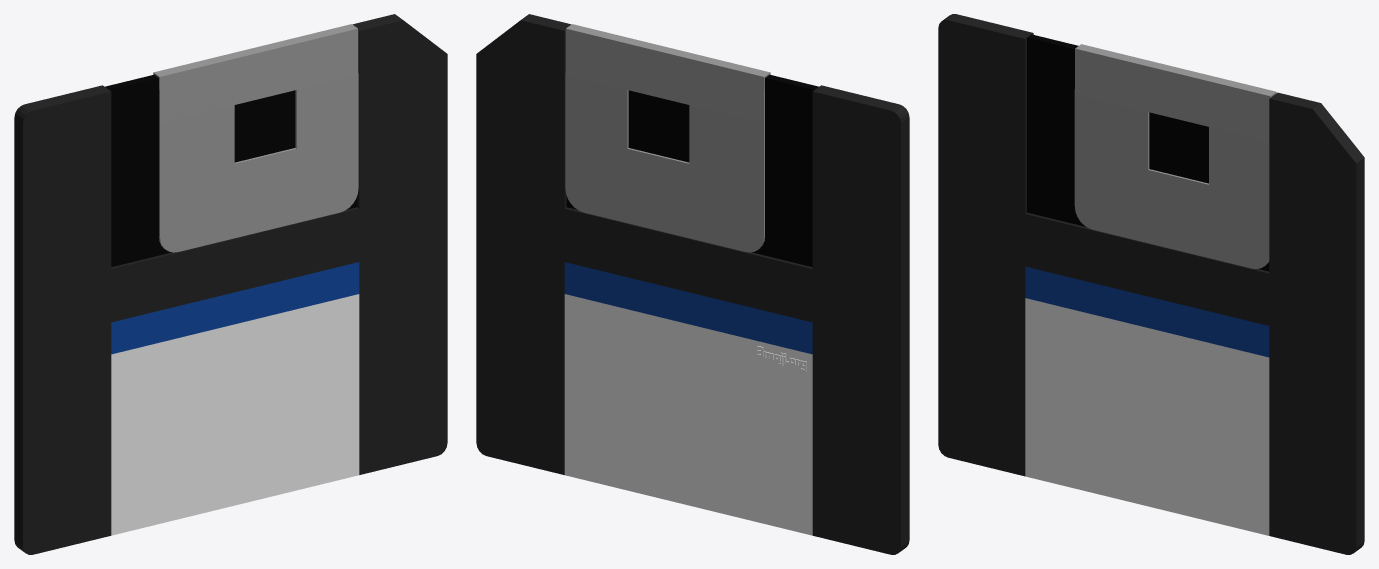
The model's file is floppy_disk.fbx.
3 renders of one model, left to right at view 1: azimuth 30°, elevation 25°; view 2: azimuth 150°, elevation 25°; view 3: azimuth 330°, elevation 25°, orthographic.
Parts seen in each view (by area): view 1: Cube.932; view 2: Cube.932; view 3: Cube.932.
Boxes of the visible parts, x1,y1,x2,y2 form: Cube.932: (14,14,447,554); Cube.932: (476,14,909,554); Cube.932: (938,14,1364,554).
Bounding box in the file's own units: 227 × 228 × 8.37.
Materials: 1 (1 with a texture image).
